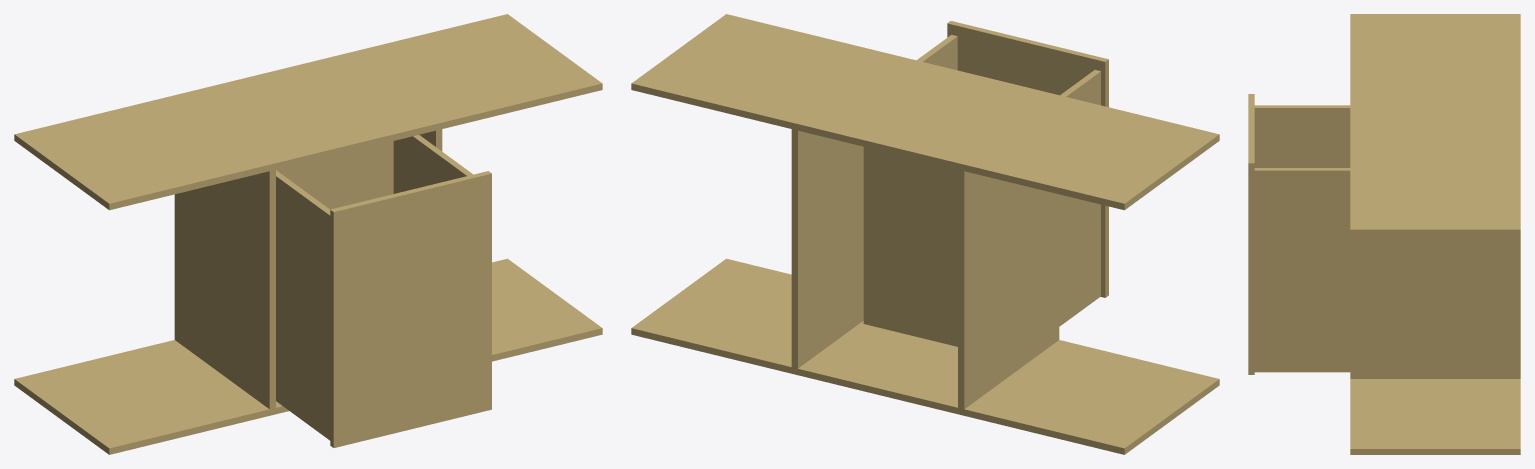
The model's file is meuble_69131015ab15b.glb.
3 renders of one model, left to right at view 1: azimuth 30°, elevation 25°; view 2: azimuth 150°, elevation 25°; view 3: azimuth 270°, elevation 25°, orthographic. The views are drawn at different scales.
Visible parts, largest first — view 1: world; view 2: world; view 3: world.
Boxes of the visible parts, x1,y1,x2,y2 form: world: [14, 14, 602, 454]; world: [631, 14, 1219, 454]; world: [1248, 14, 1520, 454].
Bounding box in the file's own units: 1.5 × 0.73 × 0.8.
